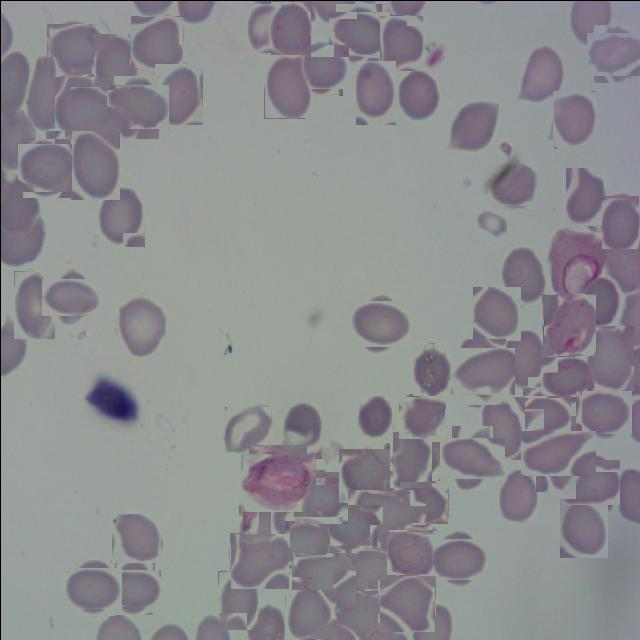difficult: (542, 293, 596, 355)
leukocyte: (49, 81, 111, 143), (292, 550, 353, 610), (528, 423, 588, 483), (70, 129, 119, 199), (24, 56, 70, 130), (378, 574, 435, 632), (229, 532, 288, 588), (114, 292, 165, 356), (357, 478, 415, 534), (94, 33, 140, 101), (263, 52, 310, 118), (454, 343, 509, 399), (586, 325, 633, 390), (48, 20, 102, 76), (96, 184, 144, 247), (352, 296, 406, 351), (154, 63, 202, 124), (331, 8, 385, 62), (20, 140, 74, 194), (110, 80, 164, 134), (445, 431, 498, 485), (559, 498, 607, 557), (518, 45, 566, 104), (13, 270, 54, 338), (480, 396, 524, 459), (338, 448, 389, 502), (499, 245, 545, 304), (130, 15, 182, 67), (564, 456, 616, 508), (296, 474, 348, 526), (294, 41, 346, 92), (322, 497, 374, 548), (449, 98, 498, 152), (472, 286, 520, 341), (589, 27, 640, 78), (284, 590, 336, 640), (355, 60, 395, 124), (578, 386, 628, 436), (68, 562, 118, 612), (433, 533, 483, 583), (552, 90, 595, 148), (564, 166, 606, 225), (378, 14, 422, 70), (386, 434, 435, 484), (280, 399, 321, 458), (111, 513, 160, 562), (396, 478, 446, 526), (217, 570, 257, 629), (47, 272, 95, 321), (280, 519, 328, 568), (542, 352, 590, 400), (518, 391, 566, 439), (488, 160, 536, 207), (396, 67, 438, 120), (504, 329, 542, 386), (346, 546, 392, 593), (270, 1, 310, 54), (110, 564, 156, 610), (387, 530, 433, 576), (240, 502, 286, 548), (398, 394, 444, 440), (224, 406, 270, 451), (600, 194, 638, 248), (412, 342, 450, 395), (498, 471, 538, 520), (583, 278, 621, 324), (247, 4, 281, 54), (358, 395, 391, 442)
schizont: (243, 448, 310, 516)
